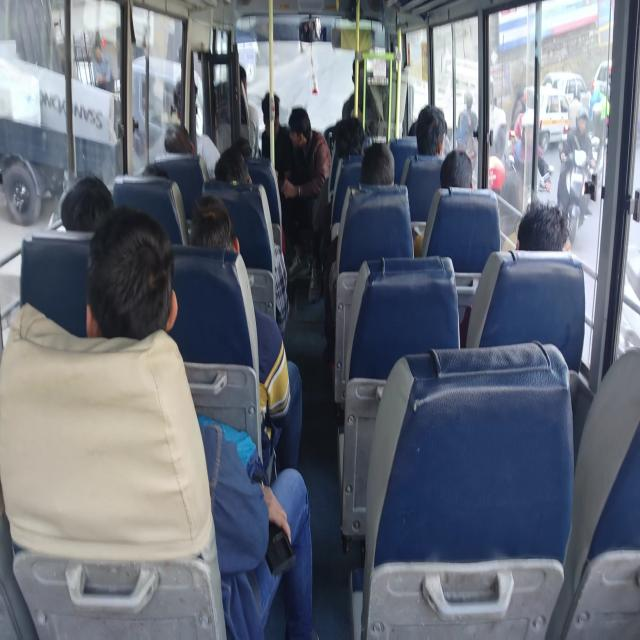person: (85, 205, 314, 638), (189, 194, 303, 474), (459, 198, 571, 348), (324, 142, 396, 362), (214, 146, 289, 336), (280, 106, 331, 300), (412, 148, 473, 256), (165, 78, 220, 181), (558, 106, 596, 222), (514, 109, 552, 201), (260, 91, 294, 184), (60, 174, 114, 232), (342, 57, 381, 135), (515, 199, 571, 252), (415, 104, 446, 157), (456, 90, 478, 164), (359, 141, 395, 186), (214, 146, 253, 185), (439, 148, 473, 189), (333, 116, 364, 160), (91, 35, 114, 92), (488, 154, 505, 193)
